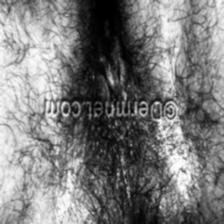Non-Cancerous Skin Condition: (75, 5, 137, 97)
